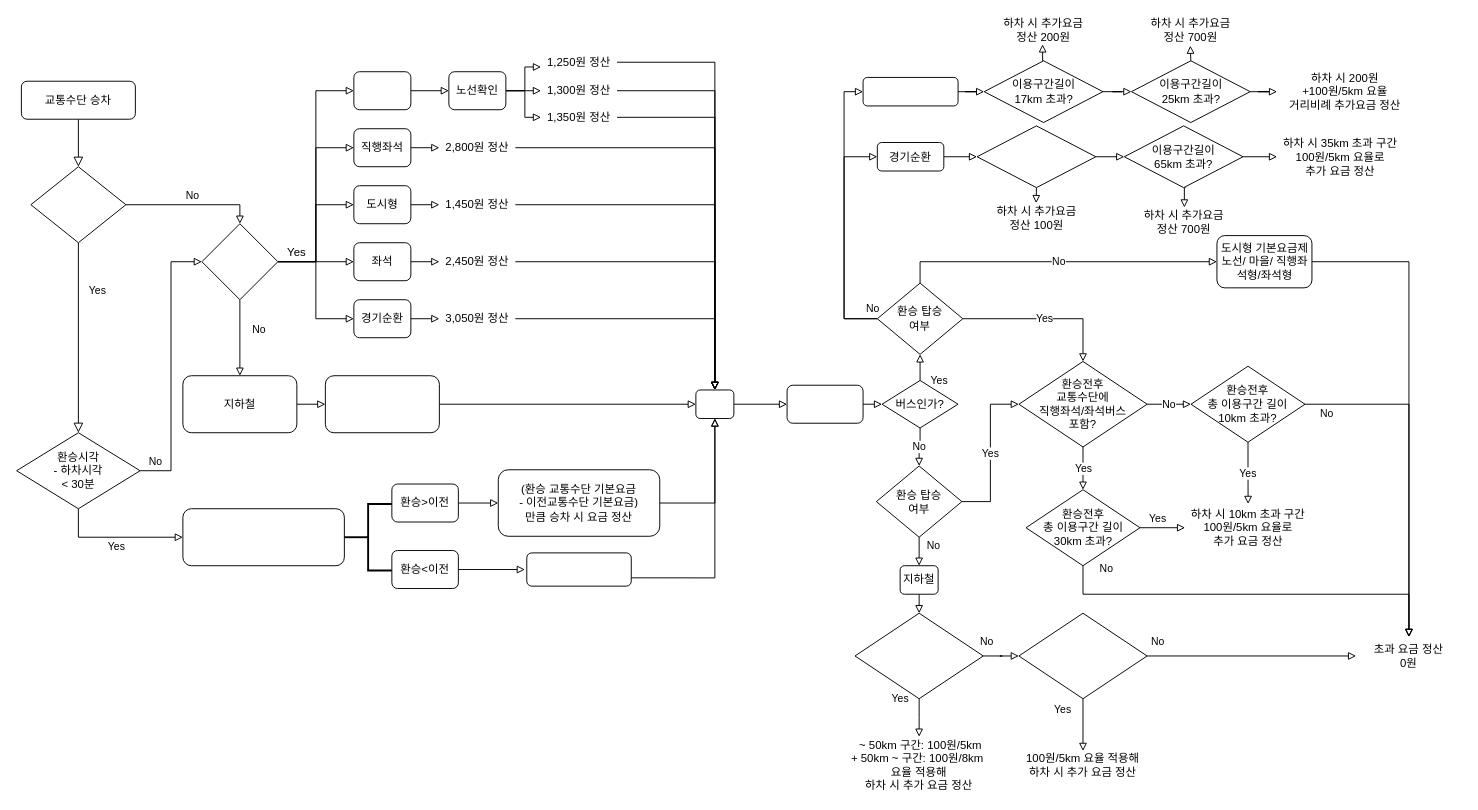
Some shapes in this 1478 by 810 pixel diagram are drawn without their labels. The shapes that lost their labels are listed below. From the top down, each one's box as (x1, y1, x2, y2) in pixels, then its label:
(353, 71, 411, 110): 마을
(862, 76, 958, 106): 도시형 거리비례제 노선
(976, 125, 1096, 188): 이용구간길이 35km 초과?
(30, 166, 126, 243): 환승여부
(201, 223, 278, 300): 버스?
(324, 375, 439, 433): 탑승 위치 저장 승차시 기본요금 1,250원 정산
(695, 389, 734, 418): 하차
(786, 384, 863, 423): 하차 위치 및 시간 저장
(182, 508, 344, 566): 환승 교통수단 기본요금과 이전 교통수단 기본요금 비교
(526, 552, 631, 586): 승차 시 정산 0원
(854, 612, 983, 699): 이용 구간 길이가 50km 초과?
(1018, 612, 1147, 699): 이용 구간 길이가 10km 초과?
